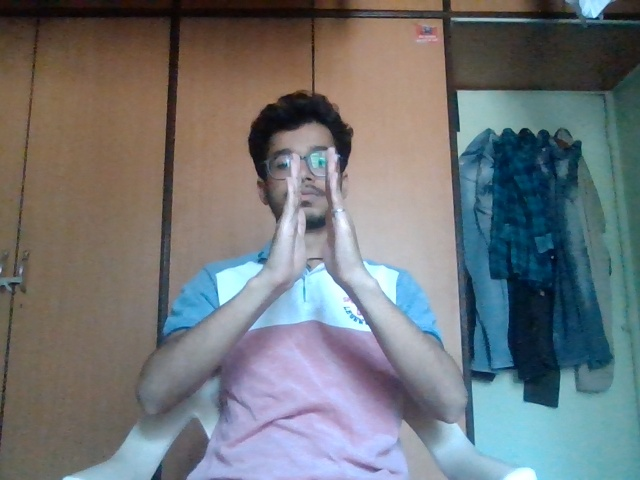morning: (260, 134, 364, 282)
